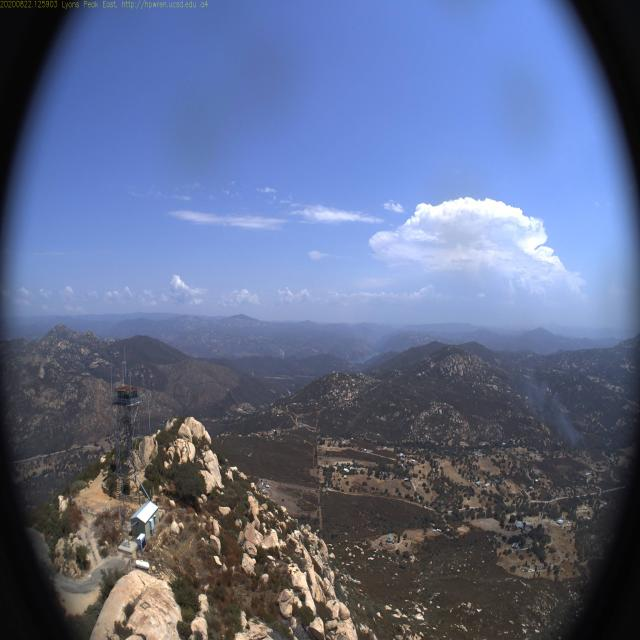smoke: (522, 359, 587, 459)
